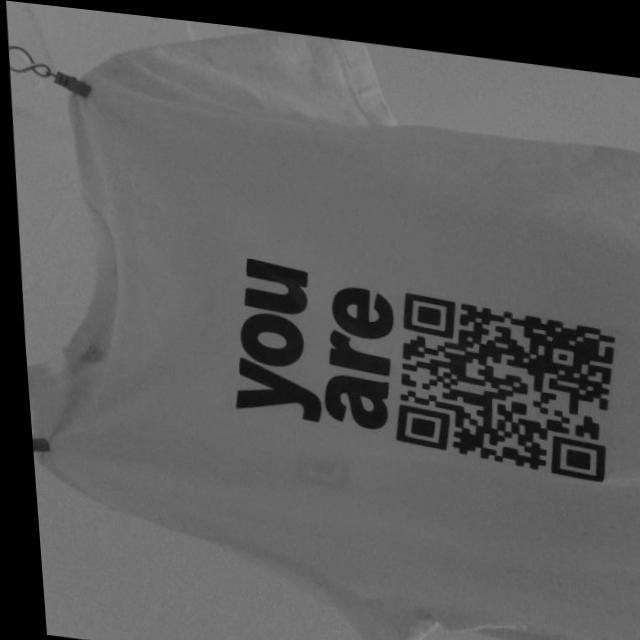qrcode: (381, 281, 621, 471)
